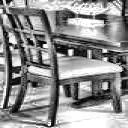chair_success: (0, 4, 127, 127)
